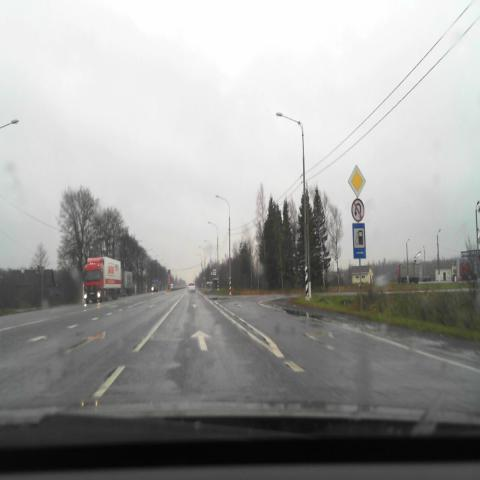3_19: (352, 199, 364, 221)
